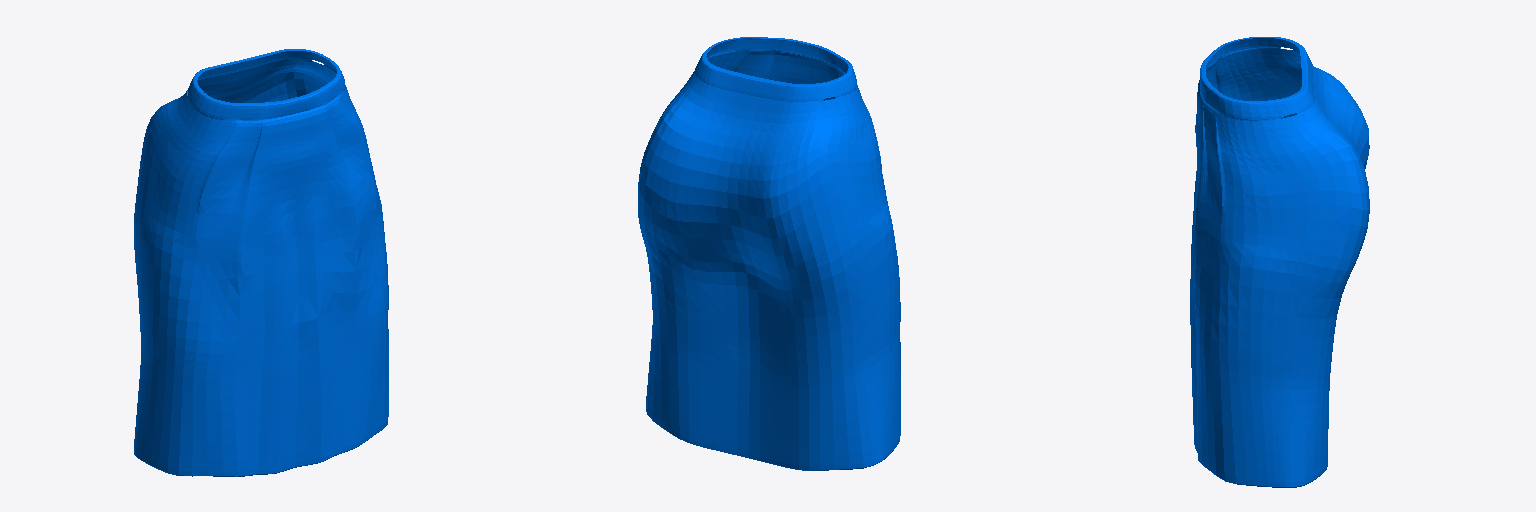
The model's file is baotunqun6.obj.
The picture shows the model from 3 angles: view 1: azimuth 30°, elevation 25°; view 2: azimuth 150°, elevation 25°; view 3: azimuth 270°, elevation 25°; orthographic projection.
Visible parts, largest first — view 1: file; view 2: file; view 3: file.
Part boxes in pixels (x1,y1,x2,y2): file: (134,49,388,476); file: (638,37,900,470); file: (1190,37,1369,487).
Size of the model in its own units: 3.43 by 5.27 by 2.28.